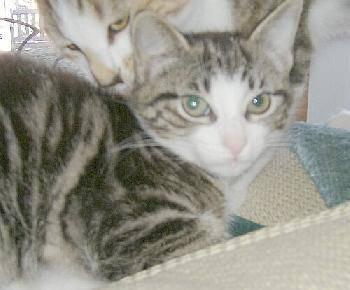cat: (0, 0, 310, 287)
